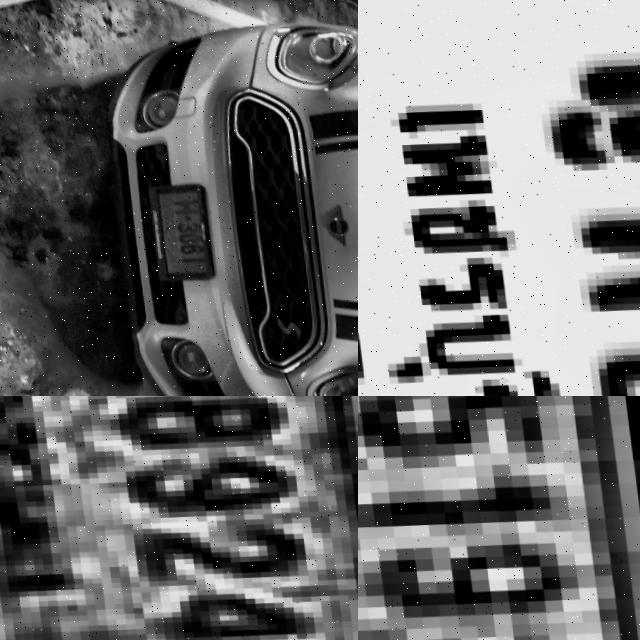license-plate: (358, 0, 640, 396), (0, 396, 358, 640), (358, 396, 640, 640), (136, 181, 213, 284)
